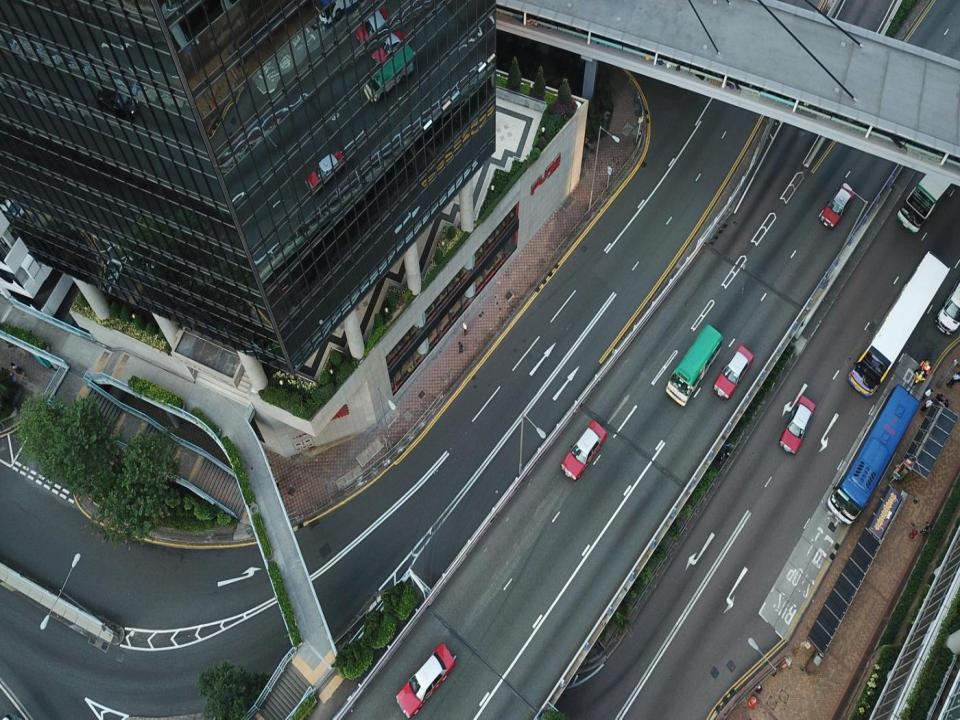bus: (848, 250, 952, 398), (665, 323, 723, 408), (895, 173, 958, 234)
car: (396, 642, 454, 718), (559, 419, 611, 480), (714, 345, 754, 401), (779, 395, 816, 455), (820, 181, 855, 230)
